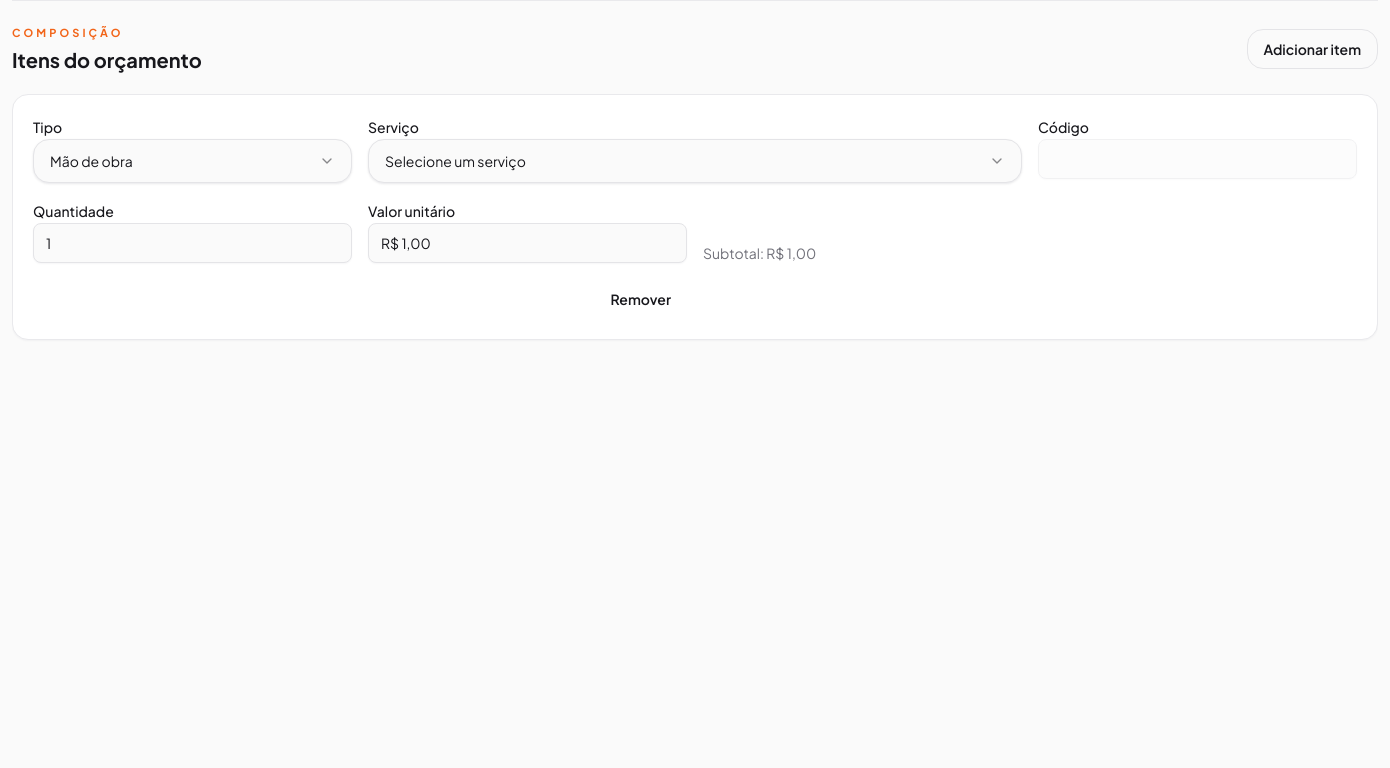
Scenario: BudgetItemsEditor › adiciona e remove itens mantendo os controles principais
The width and height of the screenshot is (1390, 768).
Click the button "Adicionar item".
click(1312, 49)  # box [1246,29,1378,69]
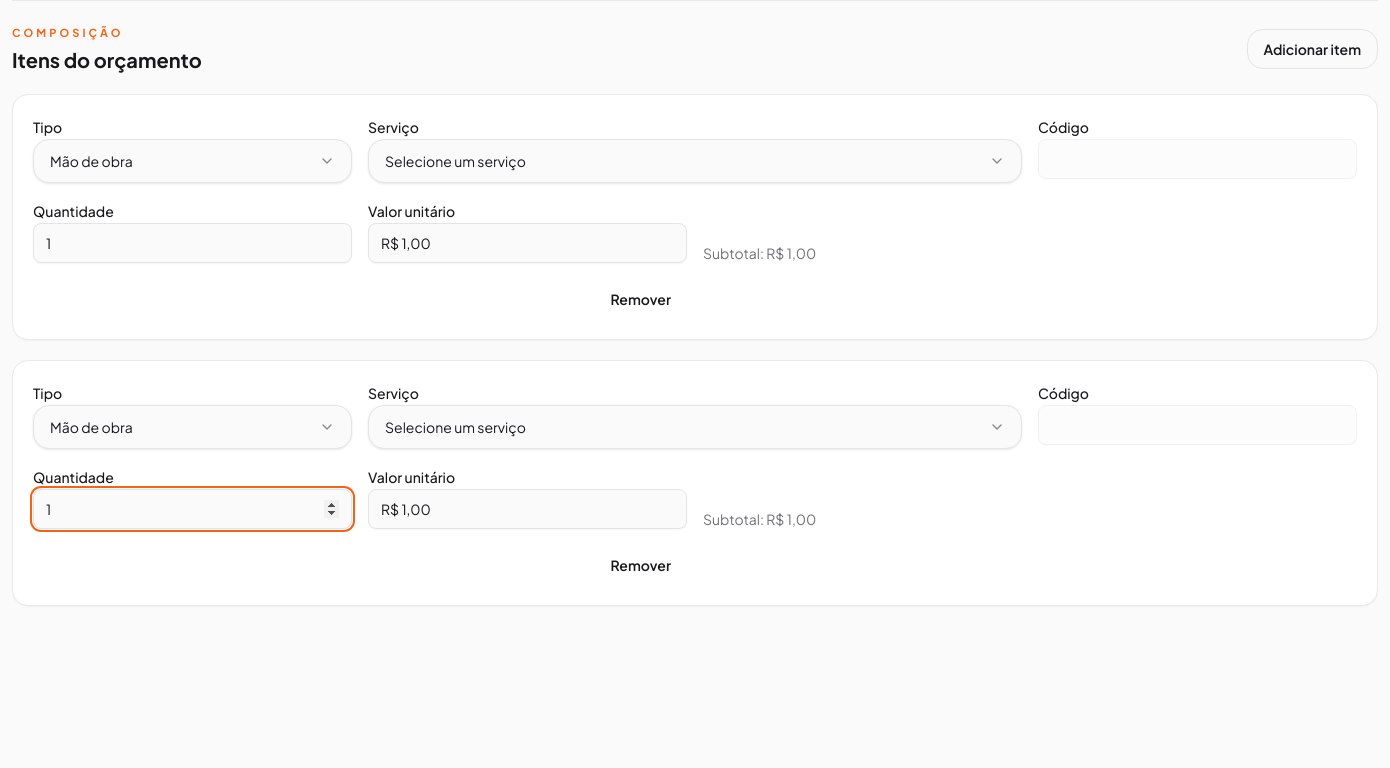
Expected: the number of dropdowns named "tipo" is 2, [33,138,352,182]; [33,404,352,448]
Expected: the text "Subtotal: R$ 1,00" is shown 2 times, [703,242,816,262]; [703,508,816,528]
Click the 1st button "Remover".
click(641, 298)  # box [595,278,687,318]
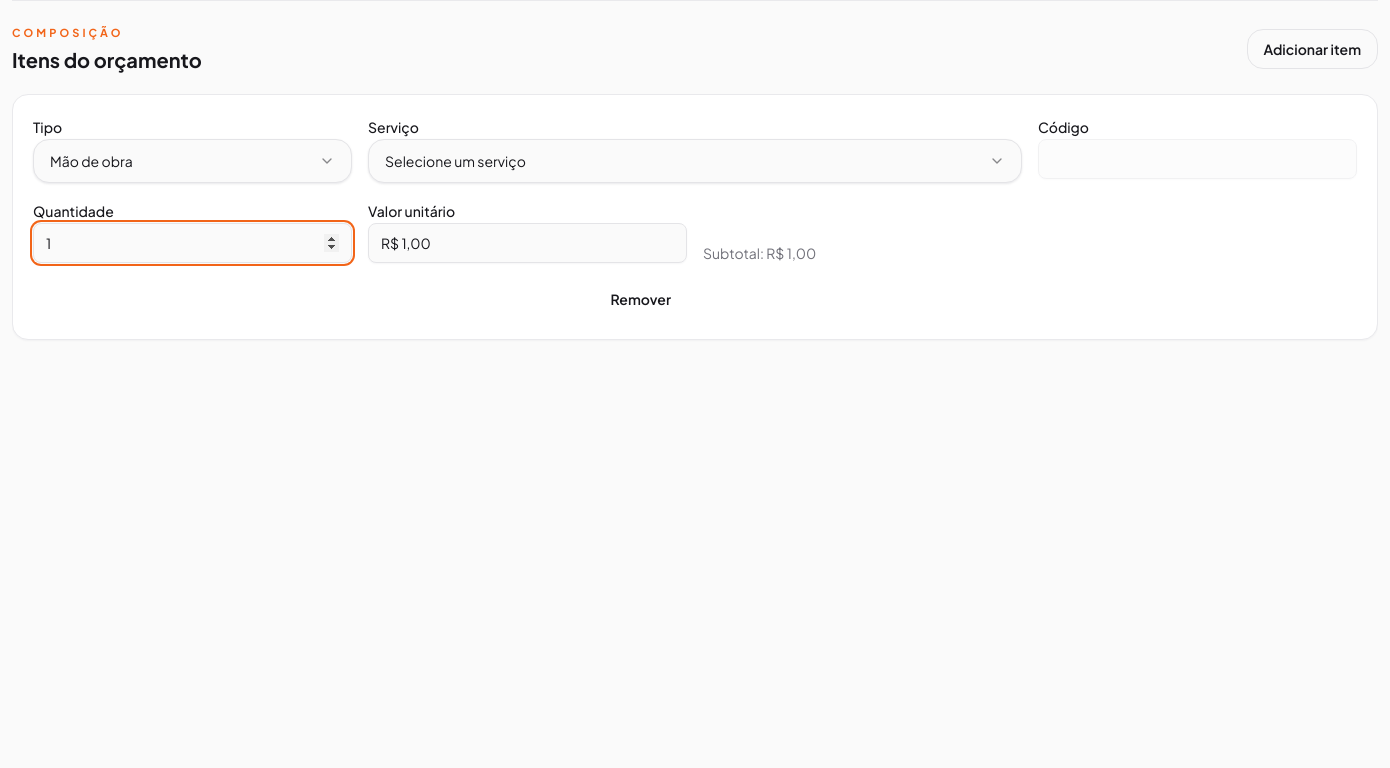
Expected: the number of dropdowns named "tipo" is 1, [33,138,352,182]
